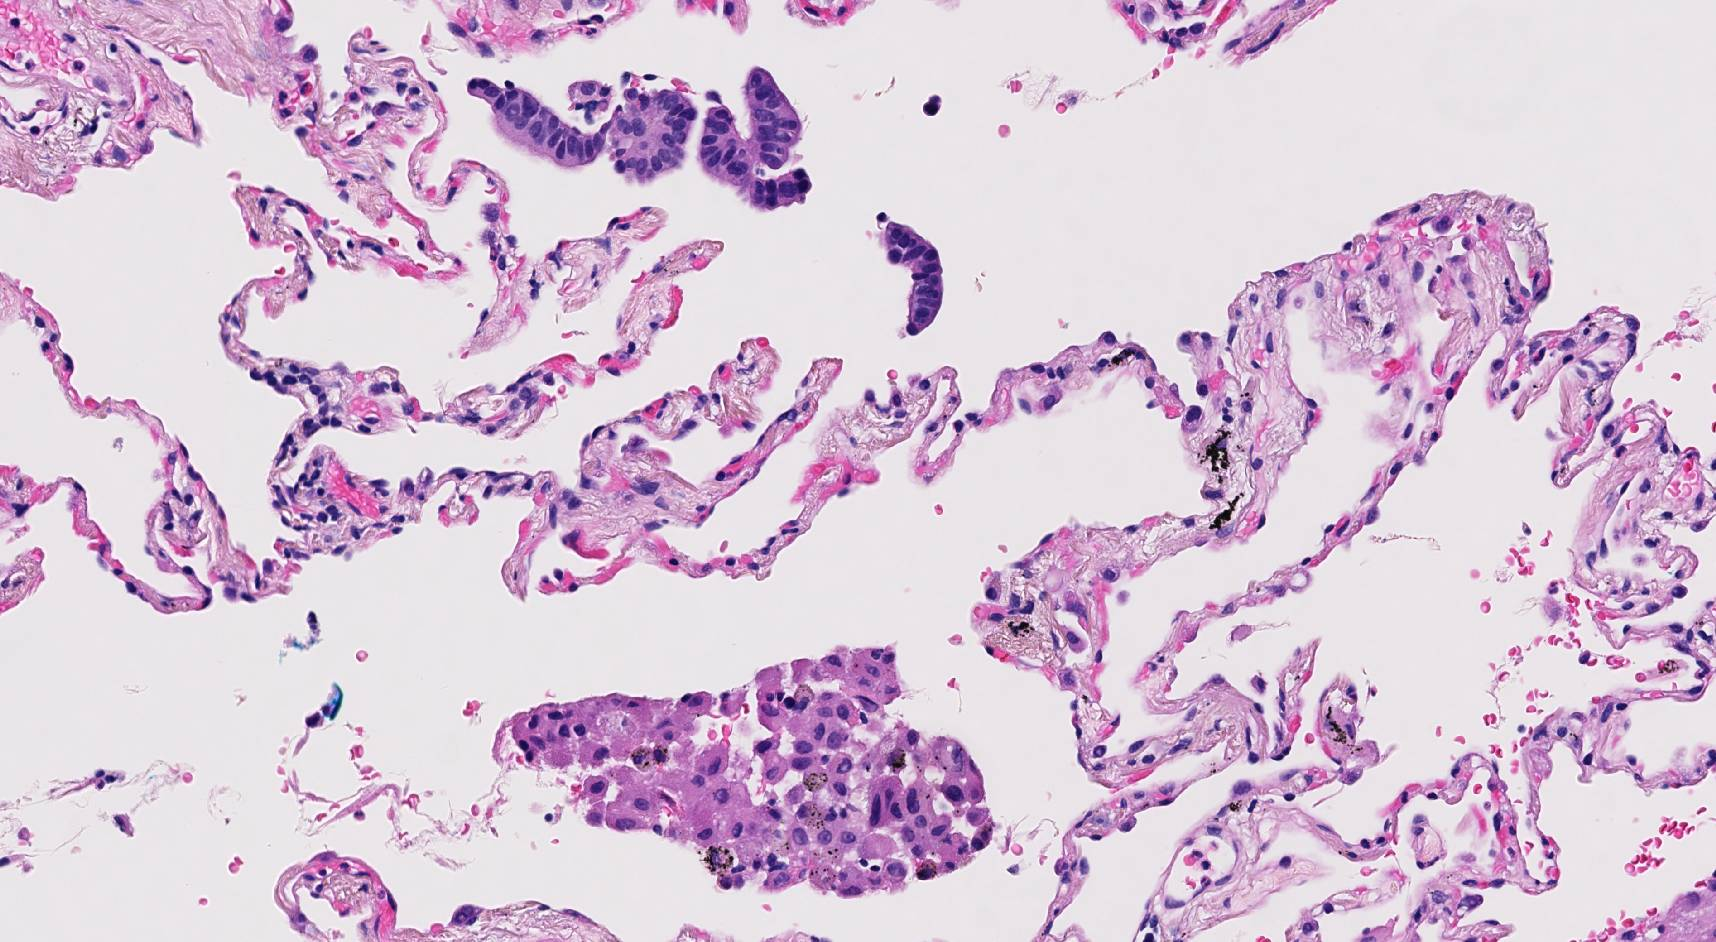stas: (468, 67, 699, 189), (697, 67, 817, 211), (878, 216, 947, 340)
